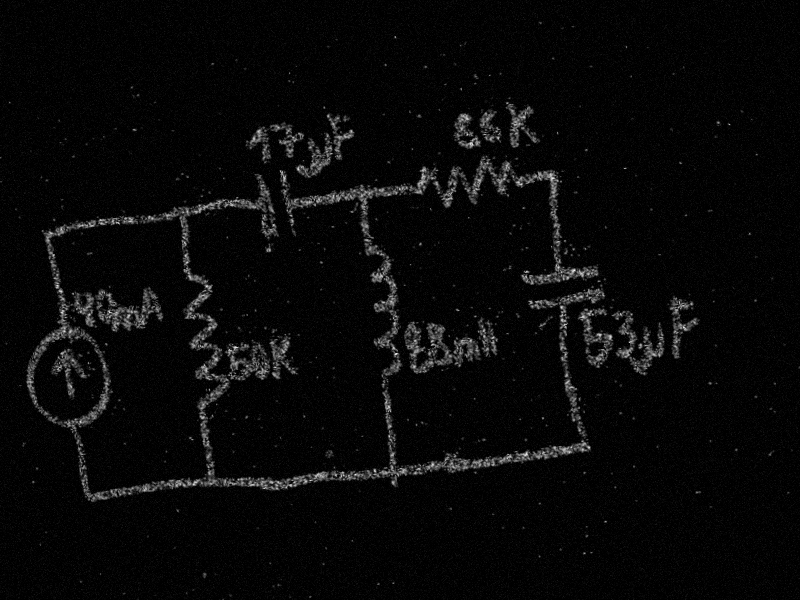0: (92, 286, 120, 328), (246, 341, 275, 381)
1: (238, 122, 276, 172)
3: (607, 307, 642, 362)
4: (68, 287, 101, 332)
5: (574, 306, 620, 372), (222, 339, 256, 384)
6: (475, 106, 505, 146)
7: (266, 118, 309, 163)
8: (399, 318, 438, 379), (423, 319, 456, 371), (448, 110, 483, 154)
A: (134, 283, 169, 330)
F: (661, 292, 708, 360), (325, 111, 362, 164)
H: (475, 316, 503, 361)
k: (502, 96, 543, 151), (264, 334, 300, 382)
m: (449, 334, 484, 367), (109, 303, 143, 334)
u: (636, 322, 672, 369), (303, 133, 338, 180)
